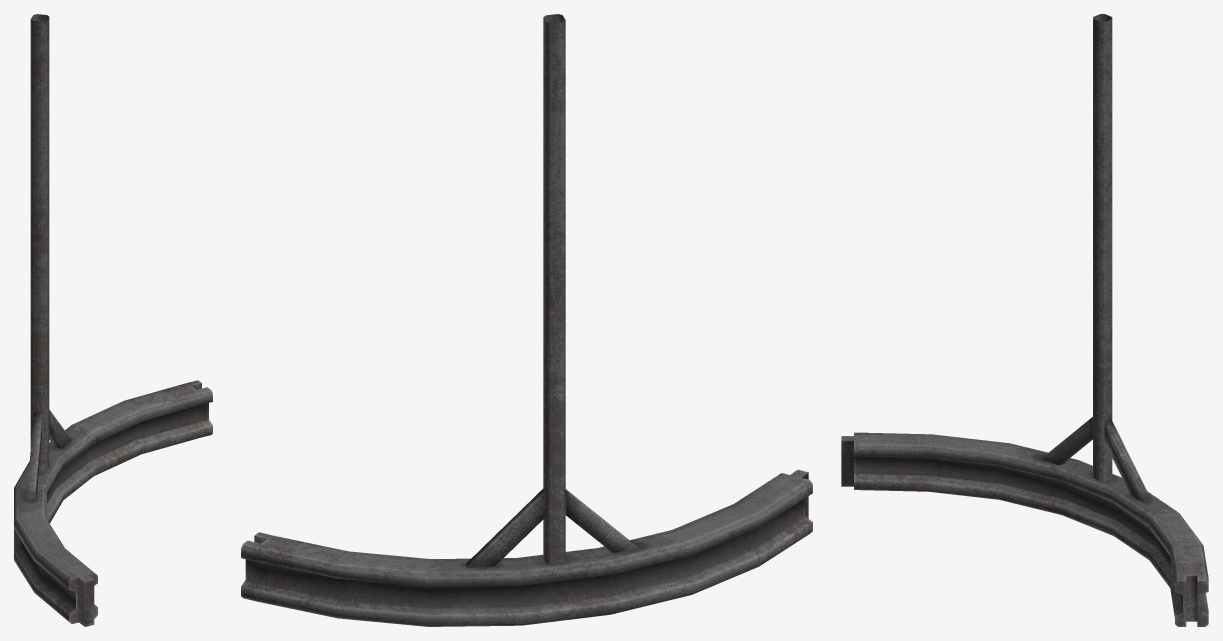
The model's file is ceiling_rail_track_turn_left.dae.
3 renders of one model, left to right at view 1: azimuth 30°, elevation 25°; view 2: azimuth 150°, elevation 25°; view 3: azimuth 270°, elevation 25°, orthographic. The views are drawn at different scales.
Parts seen in each view (by area): view 1: turn_left; view 2: turn_left; view 3: turn_left.
Part boxes in pixels (left/top/right/bottom): turn_left: left=14, top=14, right=212, bottom=626; turn_left: left=241, top=14, right=812, bottom=626; turn_left: left=841, top=14, right=1208, bottom=626.
Bounding box in the file's own units: 1.31 × 2.06 × 1.36.
